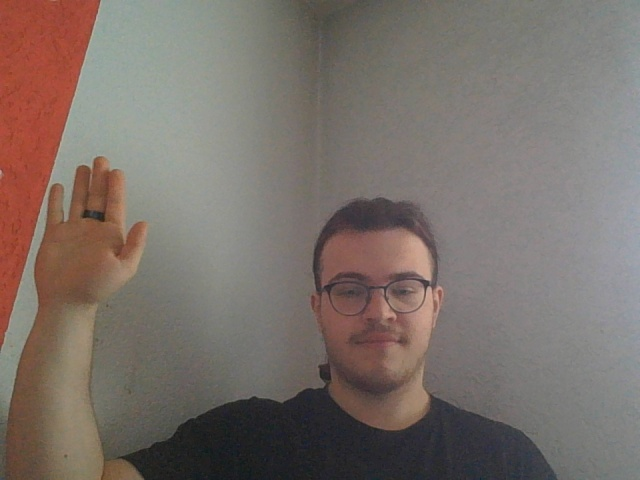Hello: (32, 155, 150, 308)
